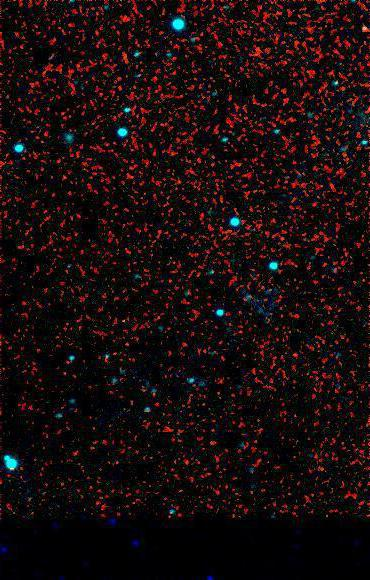star: (348, 16, 370, 46)
